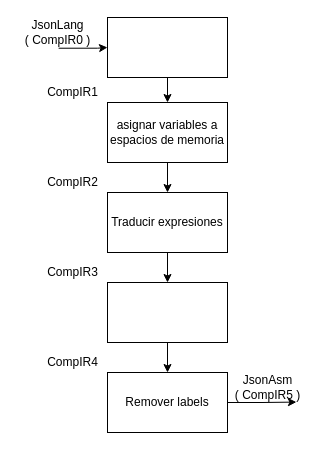
Image size: 324x450. Some labels were removed from this diagram. The centre of each missing label's shape, as x and y in pixels:
"traducir estructuras de control" goes at (x=167, y=47).
"Traducir funciones" goes at (x=167, y=312).
